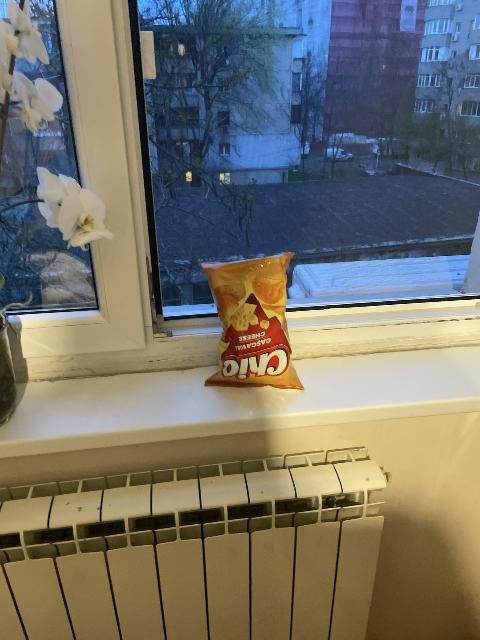Chio Cascaval 125g: (195, 256, 301, 386)
